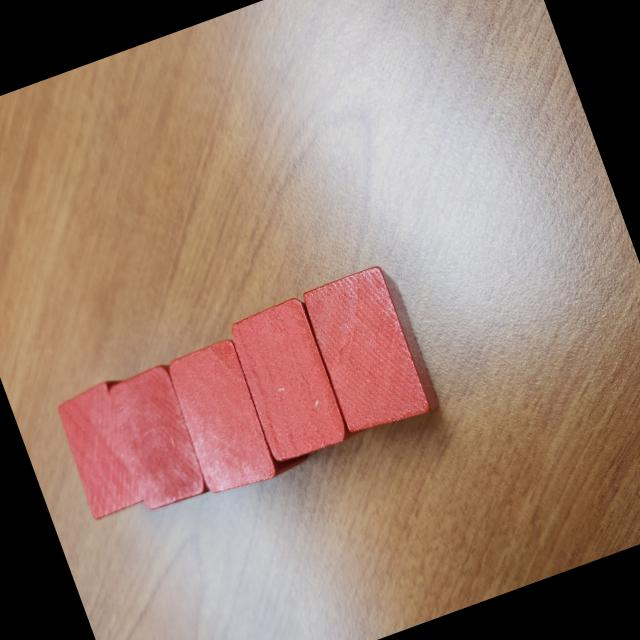red: (297, 261, 443, 444), (224, 295, 354, 467), (161, 336, 285, 504), (50, 375, 164, 524), (102, 362, 215, 512)
